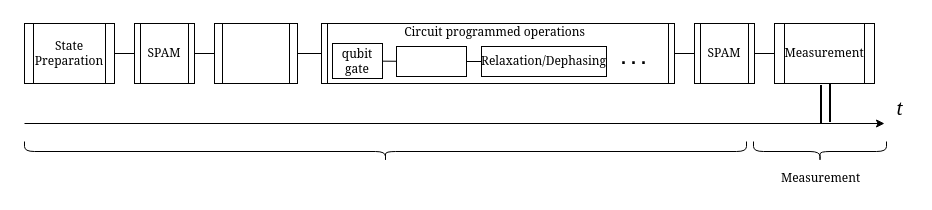
Image size: 932x210. Some labels were removed from this diagram. The shapes that lost their labels are listed below. From the top down, each one's box as (x1, y1, x2, y2) in pixels, then its label:
(214, 22, 298, 84): Relaxation/ Dephasing
(396, 46, 466, 76): Depolarizing
(24, 140, 746, 162): Quantum Evolution
